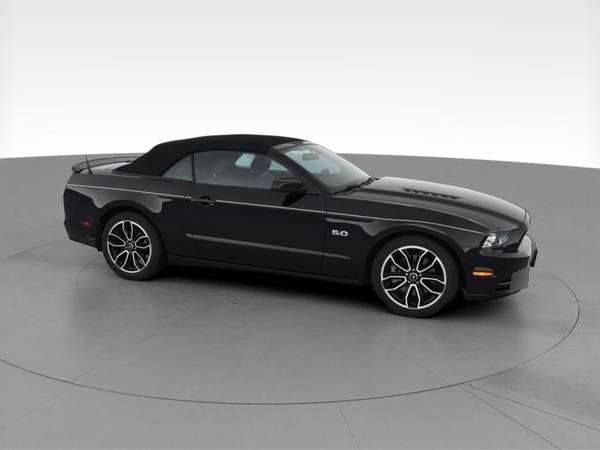Front_Bumper: (462, 237, 542, 300)
Front_Fender: (321, 212, 486, 283)
Front_Right_Door: (185, 183, 327, 278)
Front_Right_Window: (194, 147, 324, 193)
Front_Windshield: (285, 145, 381, 191)
Grille: (506, 213, 531, 251)
Hood: (327, 176, 529, 230)
Rear_Bumper: (64, 205, 99, 250)
Rear_Fender: (63, 152, 195, 262)
Right_Headlight: (479, 228, 515, 251)
Roof: (119, 134, 341, 194)
Tailgate: (73, 156, 140, 172)
Wheel: (371, 234, 457, 316), (102, 212, 162, 279)
